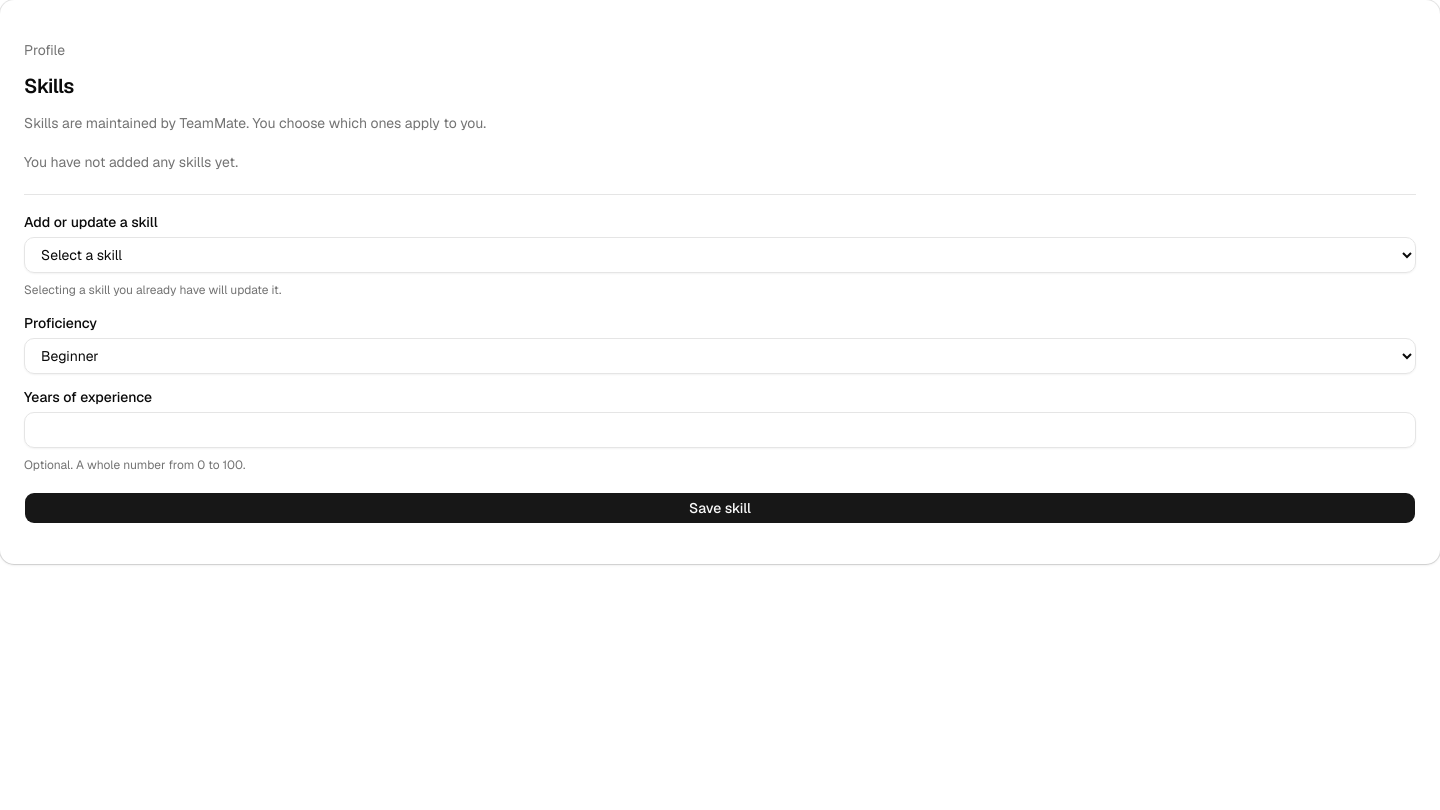
Test case: skills section › blocks submission without a selected skill
Click the button "Save skill": (720, 508) [24,492,1416,524]
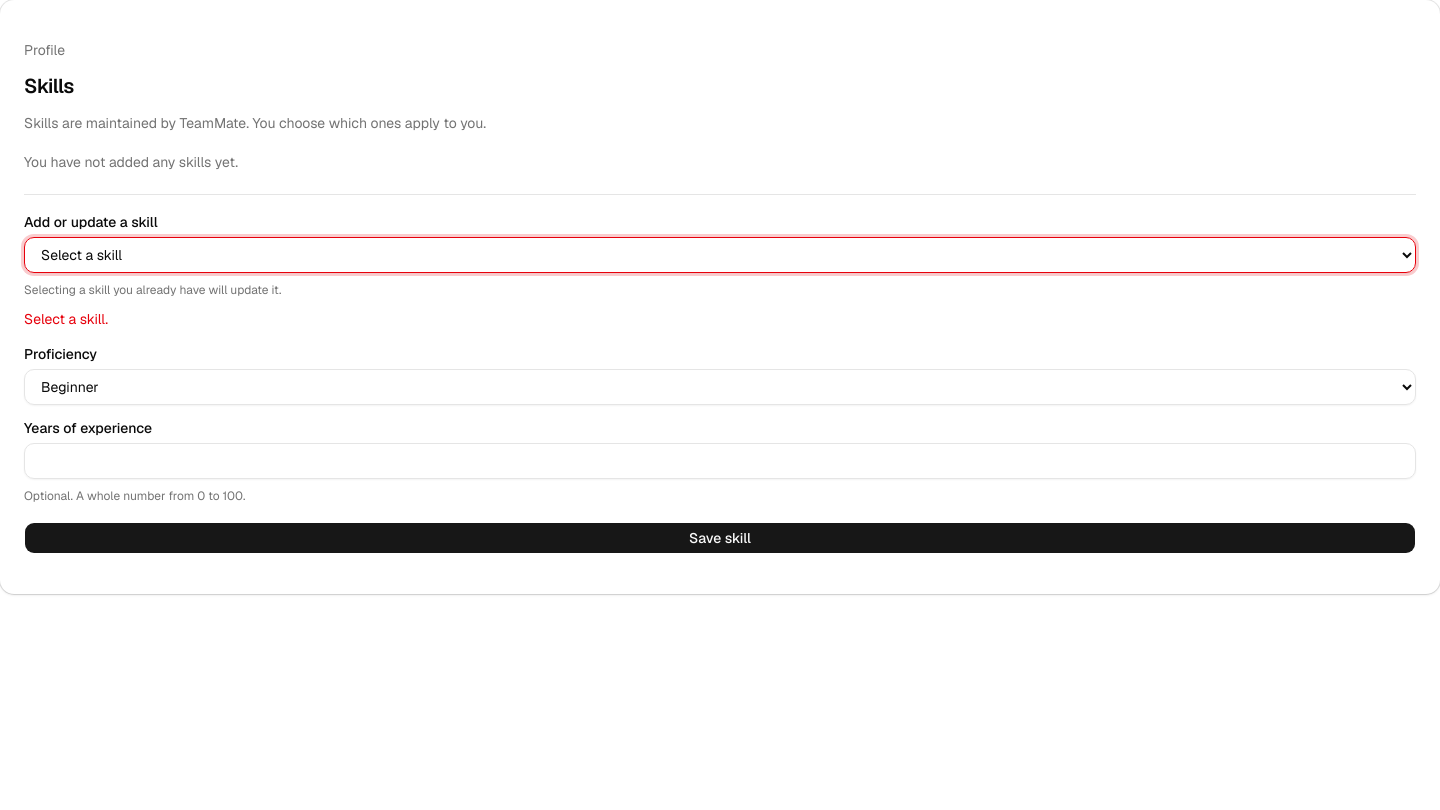
Expected: the text "Select a skill." is shown, [24,310,108,328]
